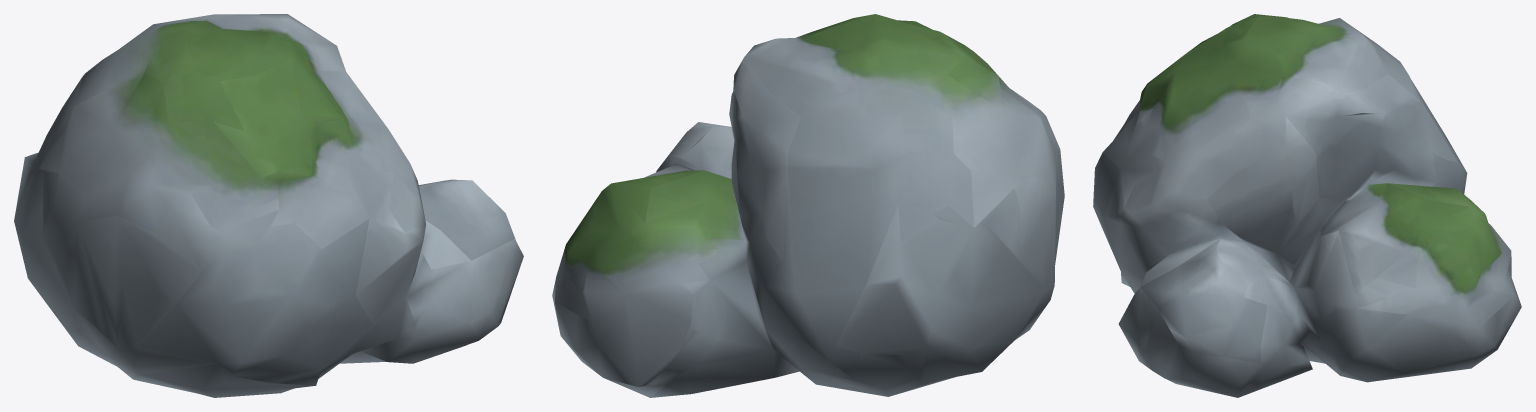
File: rock-cluster.glb
3 renders of one model, left to right at view 1: azimuth 30°, elevation 25°; view 2: azimuth 150°, elevation 25°; view 3: azimuth 270°, elevation 25°, orthographic. The views are drawn at different scales.
Parts seen in each view (by area): view 1: tripo_node_923bb302-490e-4c15-a554-5b96aecebd82; view 2: tripo_node_923bb302-490e-4c15-a554-5b96aecebd82; view 3: tripo_node_923bb302-490e-4c15-a554-5b96aecebd82.
Boxes of the visible parts, left/top/right/bottom form: tripo_node_923bb302-490e-4c15-a554-5b96aecebd82: left=14, top=14, right=523, bottom=397; tripo_node_923bb302-490e-4c15-a554-5b96aecebd82: left=552, top=14, right=1064, bottom=397; tripo_node_923bb302-490e-4c15-a554-5b96aecebd82: left=1093, top=14, right=1521, bottom=397.
Size of the model in its own units: 0.9894 by 0.6941 by 1.
1 material, 1 textured.
